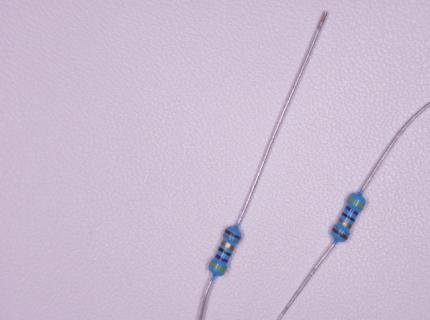Black band: (341, 212, 355, 222), (218, 247, 232, 256)
Brown band: (332, 228, 348, 240), (224, 230, 241, 240)
Gold band: (221, 240, 235, 251), (339, 218, 352, 229)
Violet band: (345, 205, 359, 216), (215, 254, 229, 263)
Yellow band: (348, 197, 365, 209), (210, 261, 226, 273)
